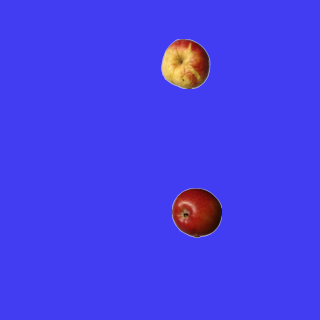Apple Braeburn: (171, 187, 221, 237)
Apple Red Yellow 1: (160, 38, 210, 88)
